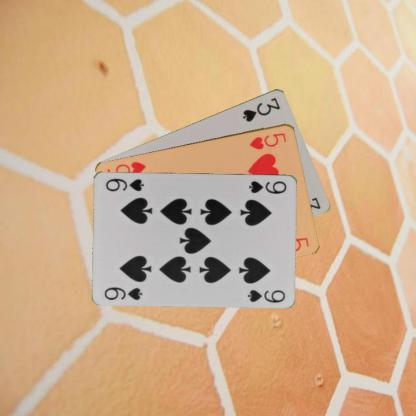3s: (240, 94, 282, 123)
5h: (247, 130, 287, 151)
9s: (102, 284, 144, 301), (247, 178, 288, 195)
